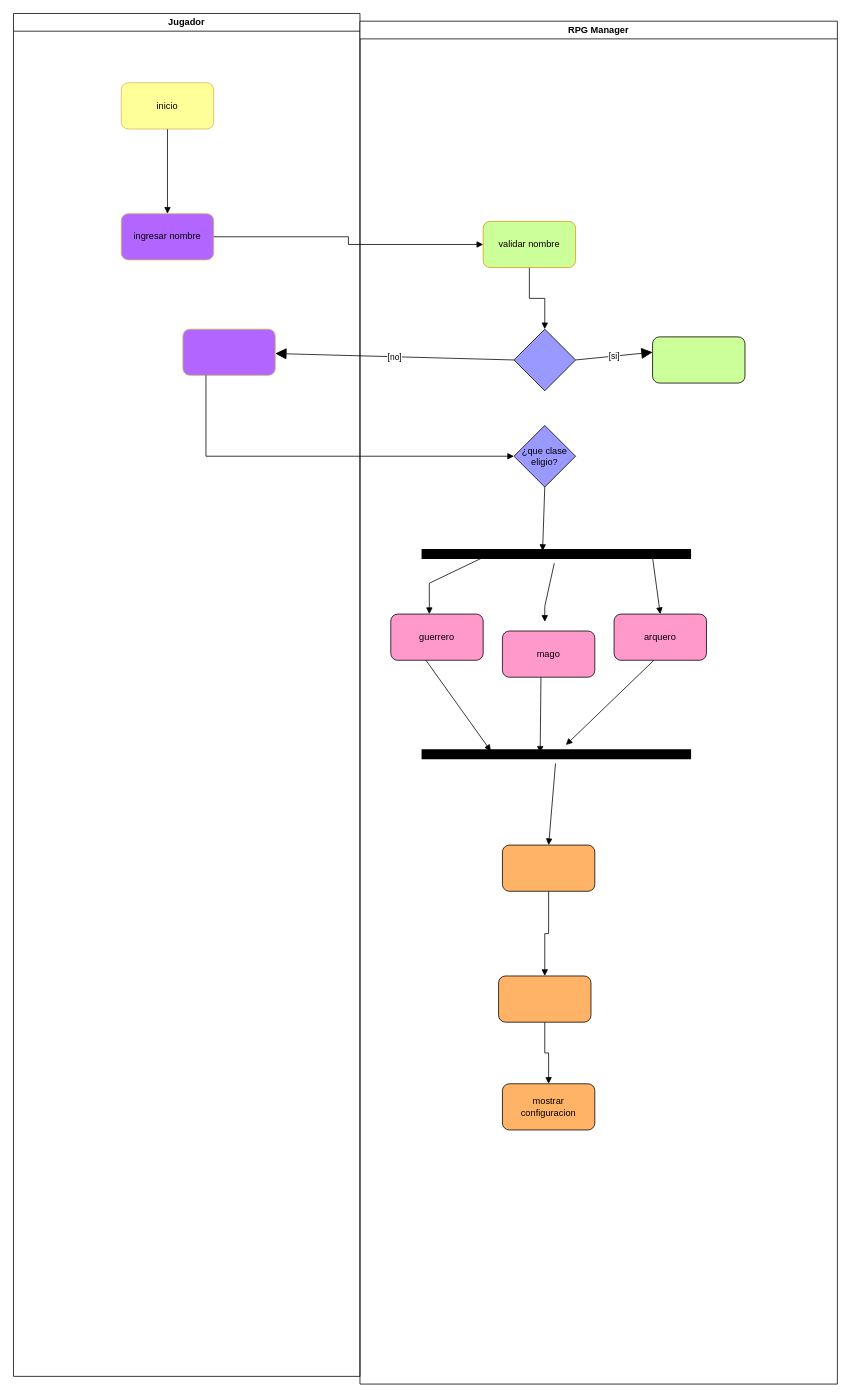
Image size: 851x1398. Some labels were removed from this diagram. The centre of each missing label's shape, as x and y in pixels:
"crear inventario vacio" belongs at (544,998).
"crear personaje" belongs at (548,867).
"seleccionar clase" belongs at (228,351).
"volver a ingresar nombre" belongs at (698,359).
"¿nombre vacio?" belongs at (544,359).
